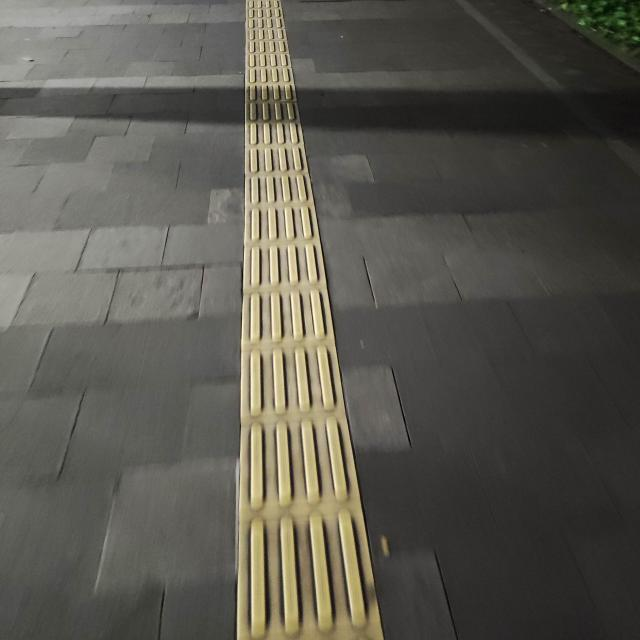lurus: (221, 0, 365, 640)
